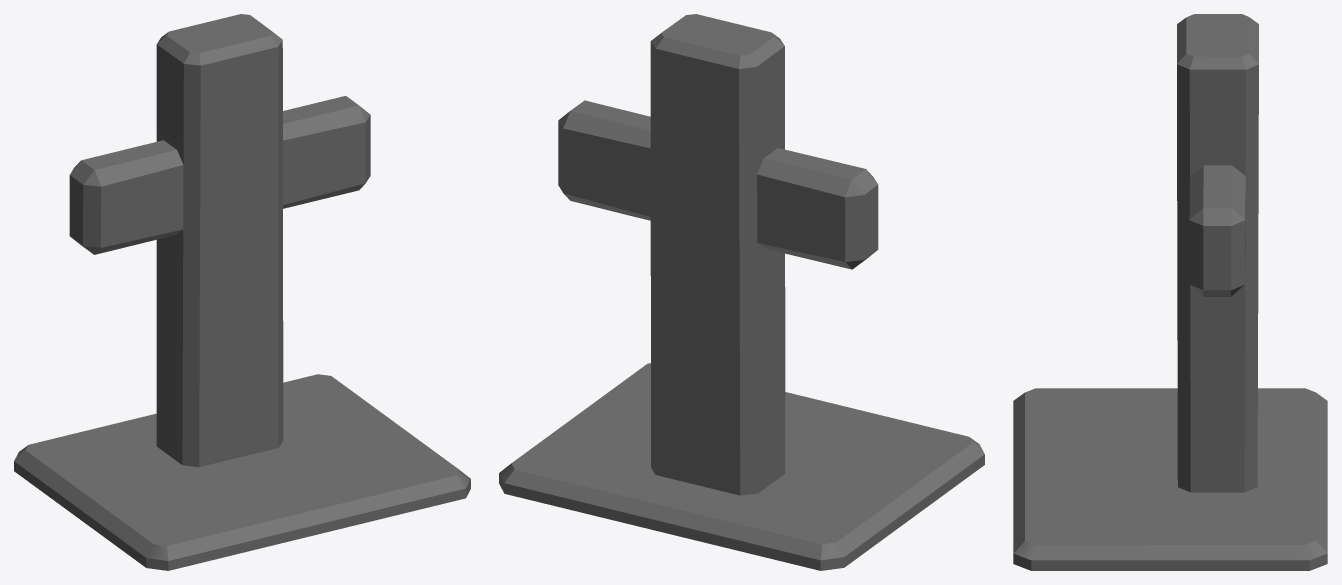
The model's file is Gravestone_2.fbx.
3 views of the same model, side by side, from view 1: azimuth 30°, elevation 25°; view 2: azimuth 150°, elevation 25°; view 3: azimuth 270°, elevation 25° (orthographic). The views are drawn at different scales.
Visible parts, largest first — view 1: Gravestone_2; view 2: Gravestone_2; view 3: Gravestone_2.
Part boxes in pixels (left/top/right/bottom): Gravestone_2: left=14, top=14, right=470, bottom=570; Gravestone_2: left=499, top=14, right=984, bottom=570; Gravestone_2: left=1013, top=14, right=1327, bottom=570.
Bounding box in the file's own units: 35.96 × 45.51 × 28.66.
